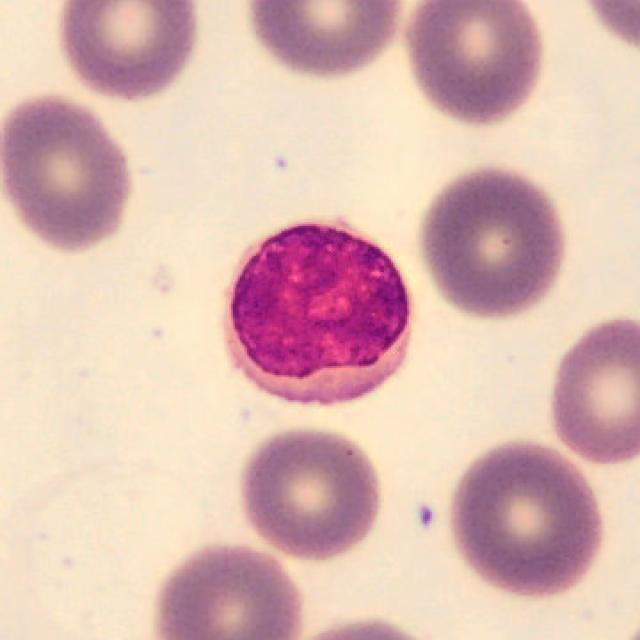Linfocito: (222, 224, 414, 407)
